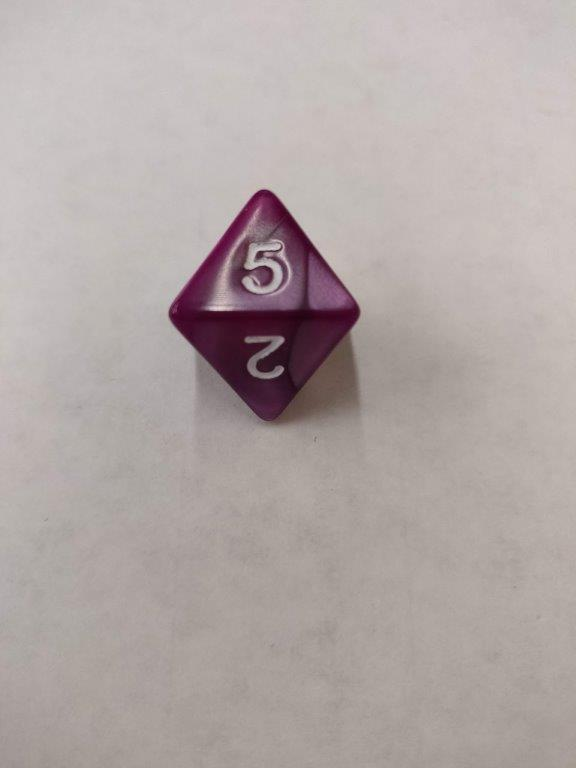d8-5: (167, 188, 361, 422)
